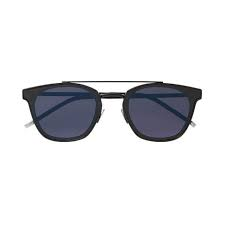g.y: (126, 82, 201, 139)
